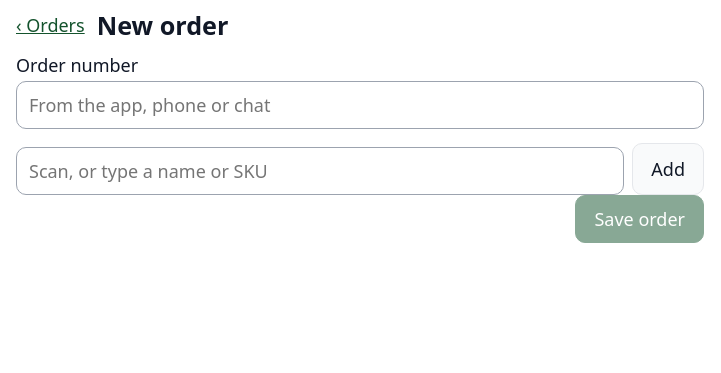
Scenario: new order screen › will not save without an order number or with a bad quantity
In the field named "Add an item": (320, 171) [16,147,624,195], type "8901"
Then press Enter
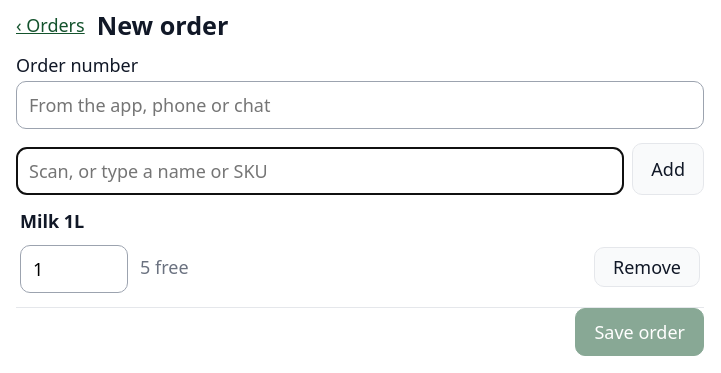
Expected: the button "Save order" is disabled, [575,308,704,356]
In the field labelled "Order number": (360, 105) [16,81,704,129], type "ZP-1"
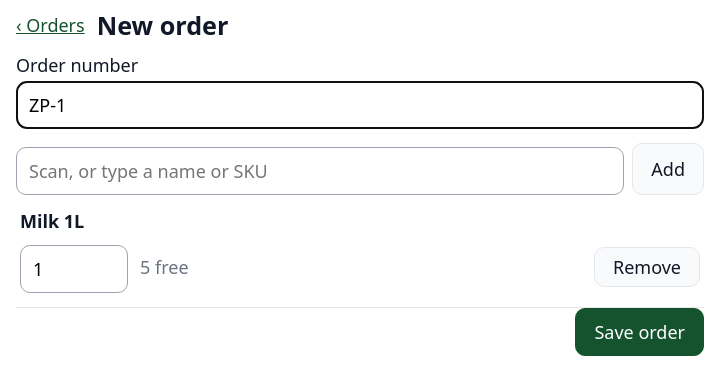
Now the button "Save order" is enabled, box [575,308,704,356]
Clear the number field named "How many Milk 1L": (74, 269) [20,245,128,293]
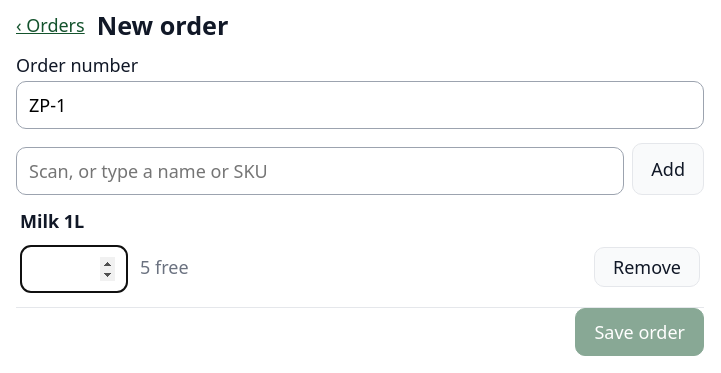
Now the button "Save order" is disabled, box [575,308,704,356]
